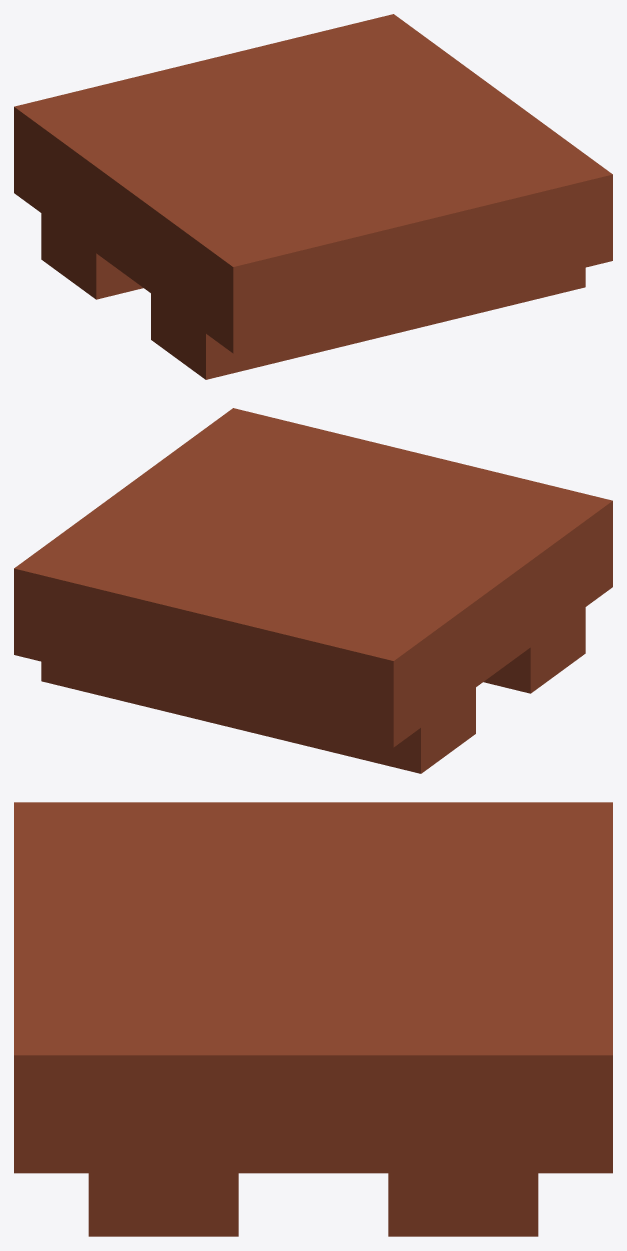
File: Brick.fbx
The picture shows the model from 3 angles, top to bottom: view 1: azimuth 30°, elevation 25°; view 2: azimuth 150°, elevation 25°; view 3: azimuth 270°, elevation 25°; orthographic projection. The views are drawn at different scales.
Visible parts, largest first — view 1: Cube.006; view 2: Cube.006; view 3: Cube.006.
Boxes of the visible parts, x1=… form: Cube.006: x1=14, y1=14, x2=612, y2=379; Cube.006: x1=14, y1=408, x2=612, y2=773; Cube.006: x1=14, y1=802, x2=612, y2=1236.
Size of the model in its own units: 10 by 3.34 by 10.
